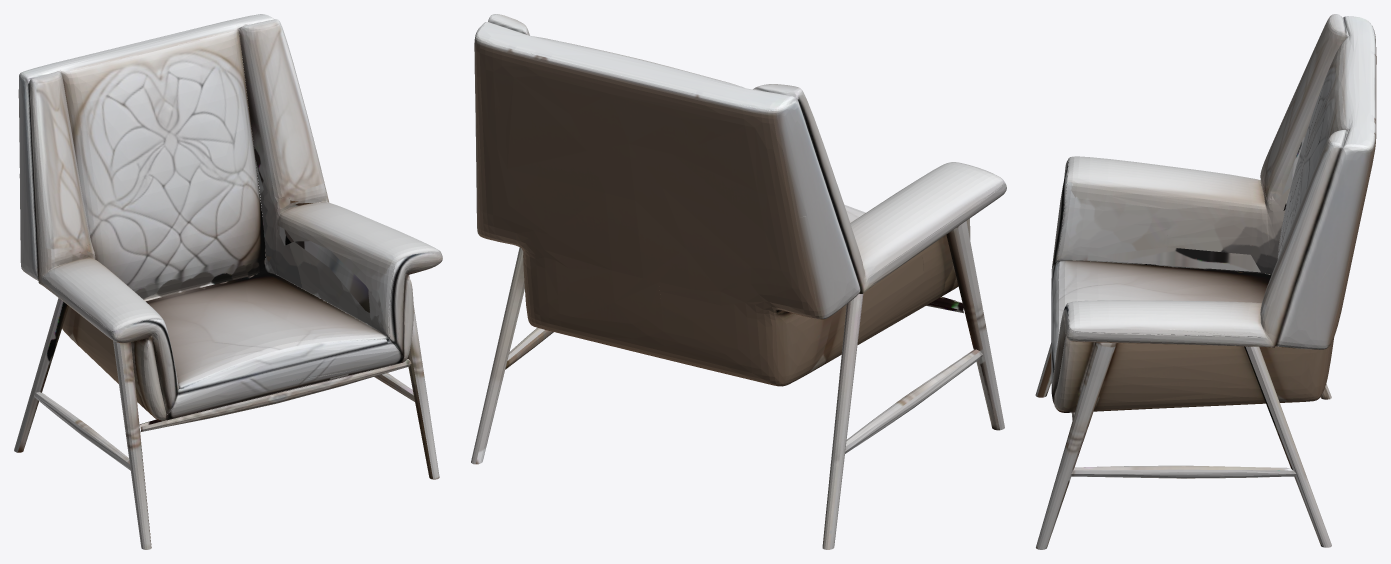
The model's file is edited_mesh.glb.
The picture shows the model from 3 angles, left to right: view 1: azimuth 30°, elevation 25°; view 2: azimuth 150°, elevation 25°; view 3: azimuth 270°, elevation 25°; orthographic projection. The views are drawn at different scales.
Visible parts, largest first — view 1: solid_001_wire; view 2: solid_001_wire; view 3: solid_001_wire.
Part boxes in pixels (x1=…): solid_001_wire: x1=14, y1=14, x2=442, y2=549; solid_001_wire: x1=471, y1=14, x2=1006, y2=549; solid_001_wire: x1=1035, y1=14, x2=1376, y2=549.
Size of the model in its own units: 1.29 by 1.36 by 1.06.
Materials: 1 (1 with a texture image).
